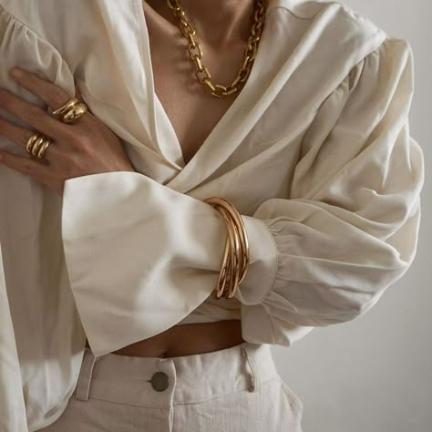Nail: (12, 68, 23, 78)
